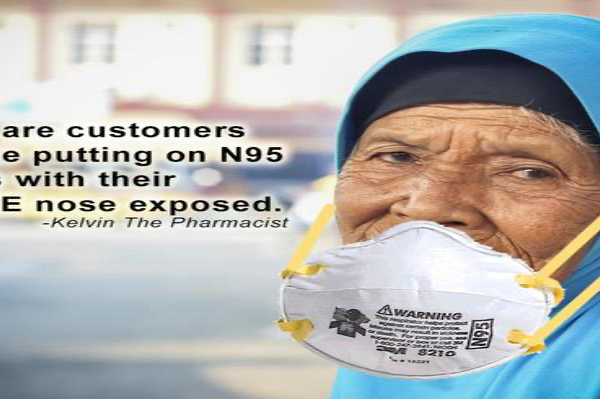mask_weared_incorrect: (330, 128, 600, 307)
